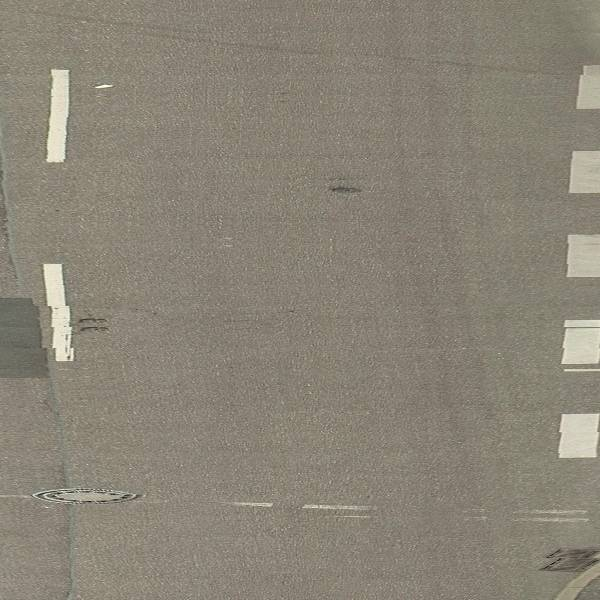road_damage: (1, 290, 56, 383), (326, 182, 369, 198), (75, 325, 119, 334)
